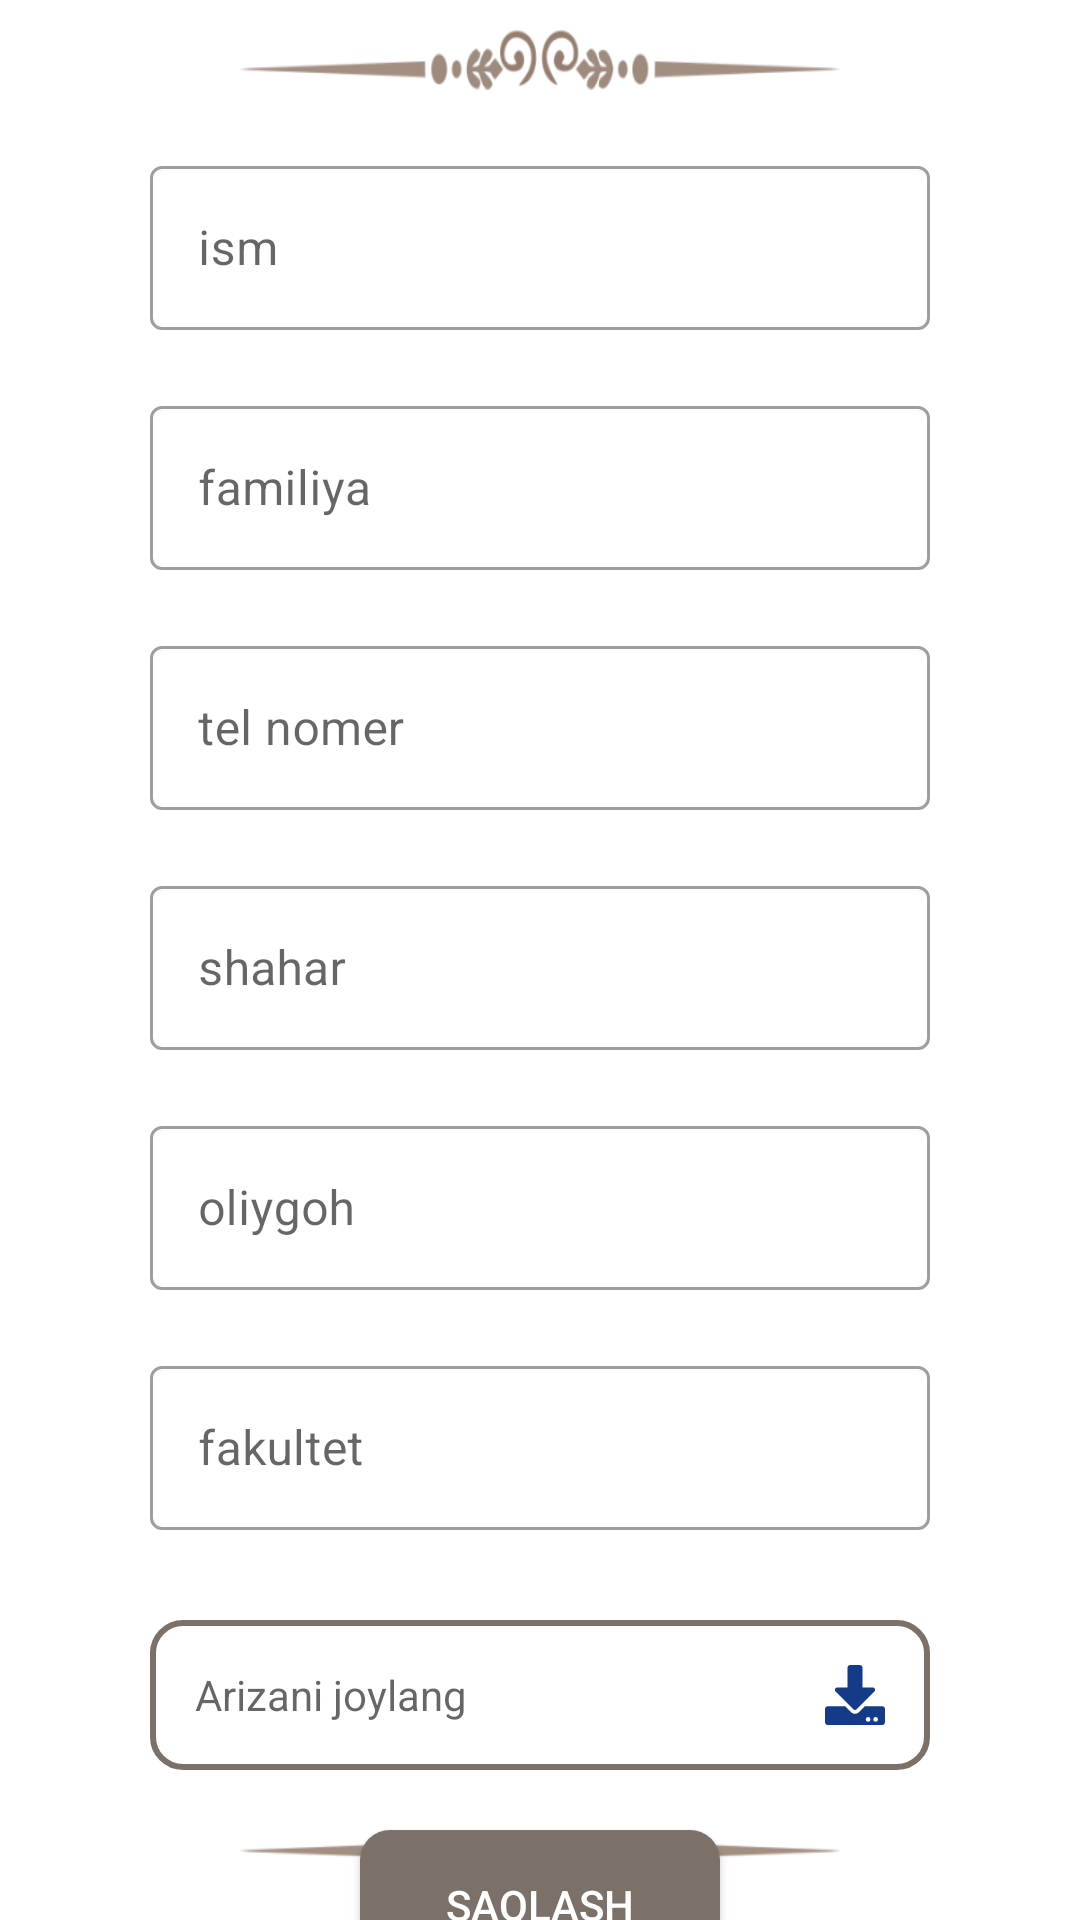

Screen size 1080x1920. Icon name, then its box in pixels as (x1=x1, y1=y1, x2=x2, y2=y2):
load file: (x1=825, y1=1665, x2=885, y2=1725)
